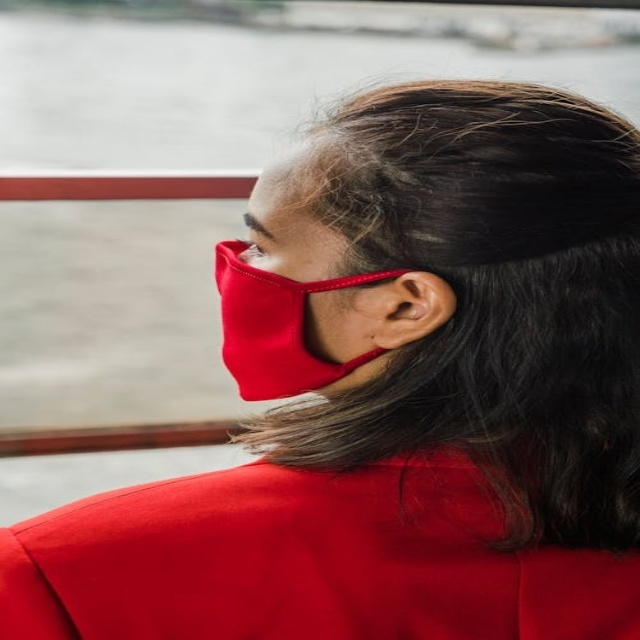Mascara: (214, 241, 420, 400)
Sin_gafas: (216, 208, 324, 264)
